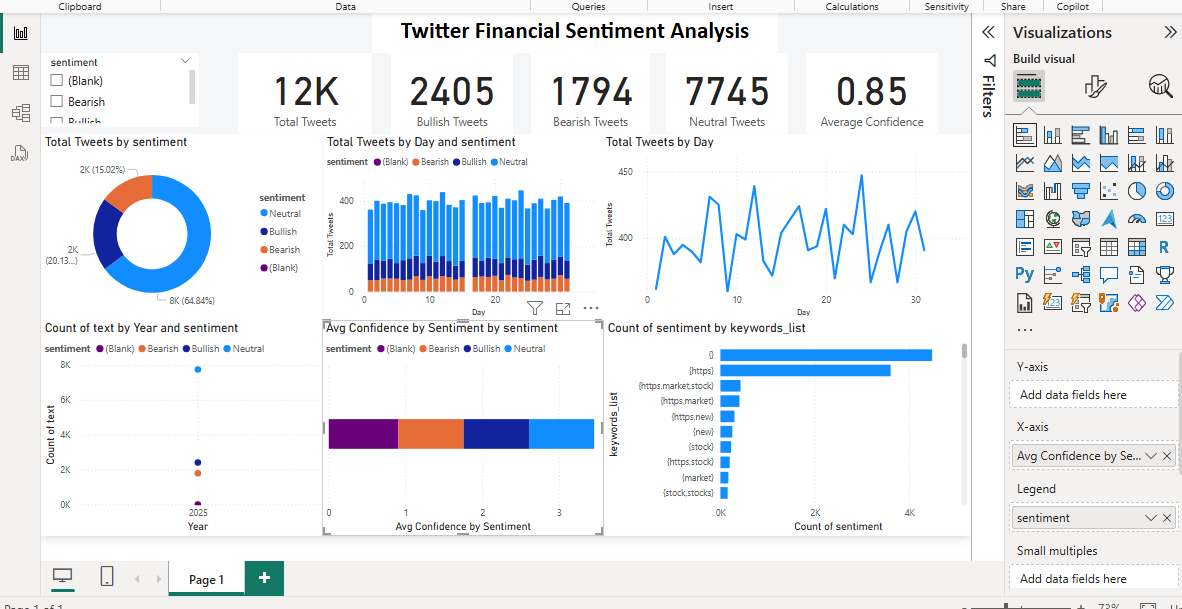

This screenshot's page, from the dashboard's own definition file:
{"tool":"powerbi","page":{"name":"Page 1","canvas":[1280,720],"ordinal":0},"visuals":[{"type":"card","fields":{"Values":["tweets_transformed.Total Tweets"]},"box":[414.3,55.1,184.4,111.5],"z":0},{"type":"card","fields":{"Values":["tweets_transformed.Bullish Tweets"]},"box":[598.7,55.1,167.9,111.5],"z":1000},{"type":"card","fields":{"Values":["tweets_transformed.Bearish Tweets"]},"box":[766.6,55.1,163.8,111.5],"z":2000},{"type":"card","fields":{"Values":["tweets_transformed.Neutral Tweets"]},"box":[930.4,55.1,167.9,111.5],"z":3000},{"type":"card","fields":{"Values":["tweets_transformed.Average Confidence"]},"box":[1098.3,55.1,181.7,111.5],"z":4000},{"type":"stackedAreaChart","title":" Sentiment Trend Over Time","fields":{"Category":["tweets_transformed.date.Variation.Date Hierarchy.Day"],"Series":["tweets_transformed.sentiment"],"Y":["tweets_transformed.Total Tweets"]},"box":[223,166.5,529.9,256],"z":5000},{"type":"barChart","title":"Avg Confidence by Sentiment ","fields":{"Series":["tweets_transformed.sentiment"],"Y":["tweets_transformed.Avg Confidence by Sentiment"]},"box":[386.8,422.5,388.1,297.3],"z":6000},{"type":"donutChart","title":"Sentiment Distribution ","fields":{"Category":["tweets_transformed.sentiment"],"Y":["tweets_transformed.Total Tweets"]},"box":[0,422.5,386.8,297.3],"z":7000},{"type":"barChart","fields":{"Y":["CountNonNull(tweets_transformed.sentiment)"],"Category":["tweets_transformed.keywords_list"]},"box":[774.9,422.5,505.1,297.3],"z":8000},{"type":"tableEx","title":" Tweets by Sentiment and Day","fields":{"Values":["tweets_transformed.date.Variation.Date Hierarchy.Day","tweets_transformed.sentiment","CountNonNull(tweets_transformed.text)"]},"box":[0,134.9,223,297.3],"z":9000},{"type":"lineChart","title":"Tweets Overtime ","fields":{"Category":["tweets_transformed.date.Variation.Date Hierarchy.Day"],"Y":["tweets_transformed.Total Tweets"]},"box":[735,166.5,545,256],"z":10000},{"type":"slicer","fields":{"Values":["tweets_transformed.sentiment"]},"box":[229.8,55.1,163.8,111.5],"z":11000},{"type":"textbox","box":[455.6,0,558.8,55.1],"z":12000},{"type":"slicer","fields":{"Values":["tweets_transformed.date"]},"box":[0,55.1,229.8,111.5],"z":12001}]}

Visuals, with their boxes on the page's 1280x720 design canvas (x1, y1, x2, y2). These are canvas units, not pixel positions in the 1182x609 screenshot, which may show the page scaled, cropped or inside an application window:
card - tweets_transformed.Total Tweets: <region>414, 55, 599, 167</region>
card - tweets_transformed.Bullish Tweets: <region>599, 55, 767, 167</region>
card - tweets_transformed.Bearish Tweets: <region>767, 55, 930, 167</region>
card - tweets_transformed.Neutral Tweets: <region>930, 55, 1098, 167</region>
card - tweets_transformed.Average Confidence: <region>1098, 55, 1280, 167</region>
" Sentiment Trend Over Time" stackedAreaChart: <region>223, 166, 753, 422</region>
"Avg Confidence by Sentiment " barChart: <region>387, 422, 775, 720</region>
"Sentiment Distribution " donutChart: <region>0, 422, 387, 720</region>
barChart - CountNonNull(tweets_transformed.sentiment) x tweets_transformed.keywords_list: <region>775, 422, 1280, 720</region>
" Tweets by Sentiment and Day" tableEx: <region>0, 135, 223, 432</region>
"Tweets Overtime " lineChart: <region>735, 166, 1280, 422</region>
slicer - tweets_transformed.sentiment: <region>230, 55, 394, 167</region>
textbox: <region>456, 0, 1014, 55</region>
slicer - tweets_transformed.date: <region>0, 55, 230, 167</region>
